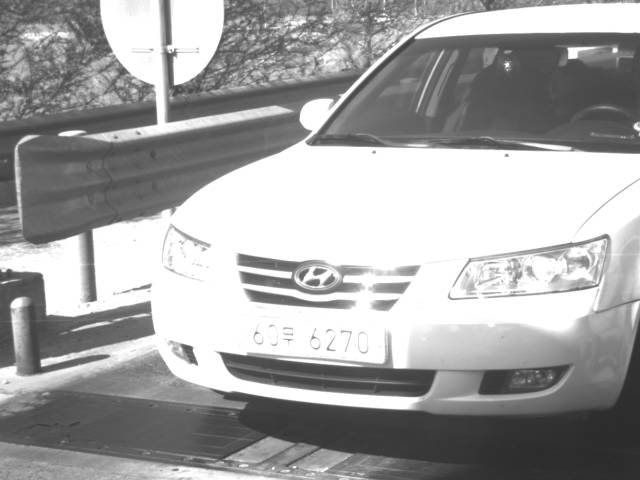car: (149, 1, 638, 424)
plate: (236, 313, 390, 366)
